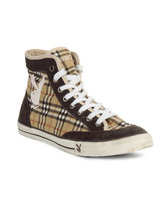shoes: (18, 47, 158, 159)
